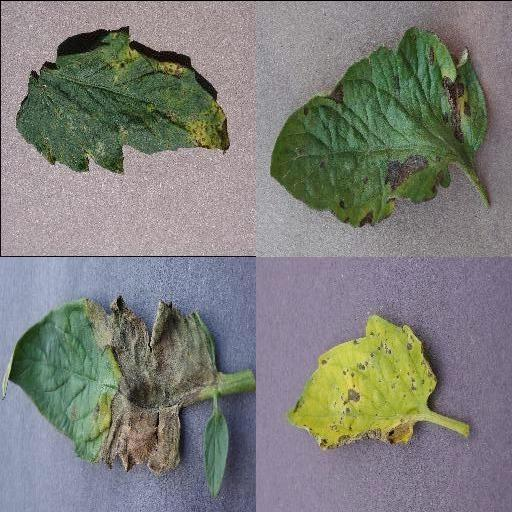Early Blight: (269, 25, 491, 225)
Late Blight: (0, 292, 216, 474)
Septoria: (14, 31, 228, 175), (283, 312, 437, 450)
